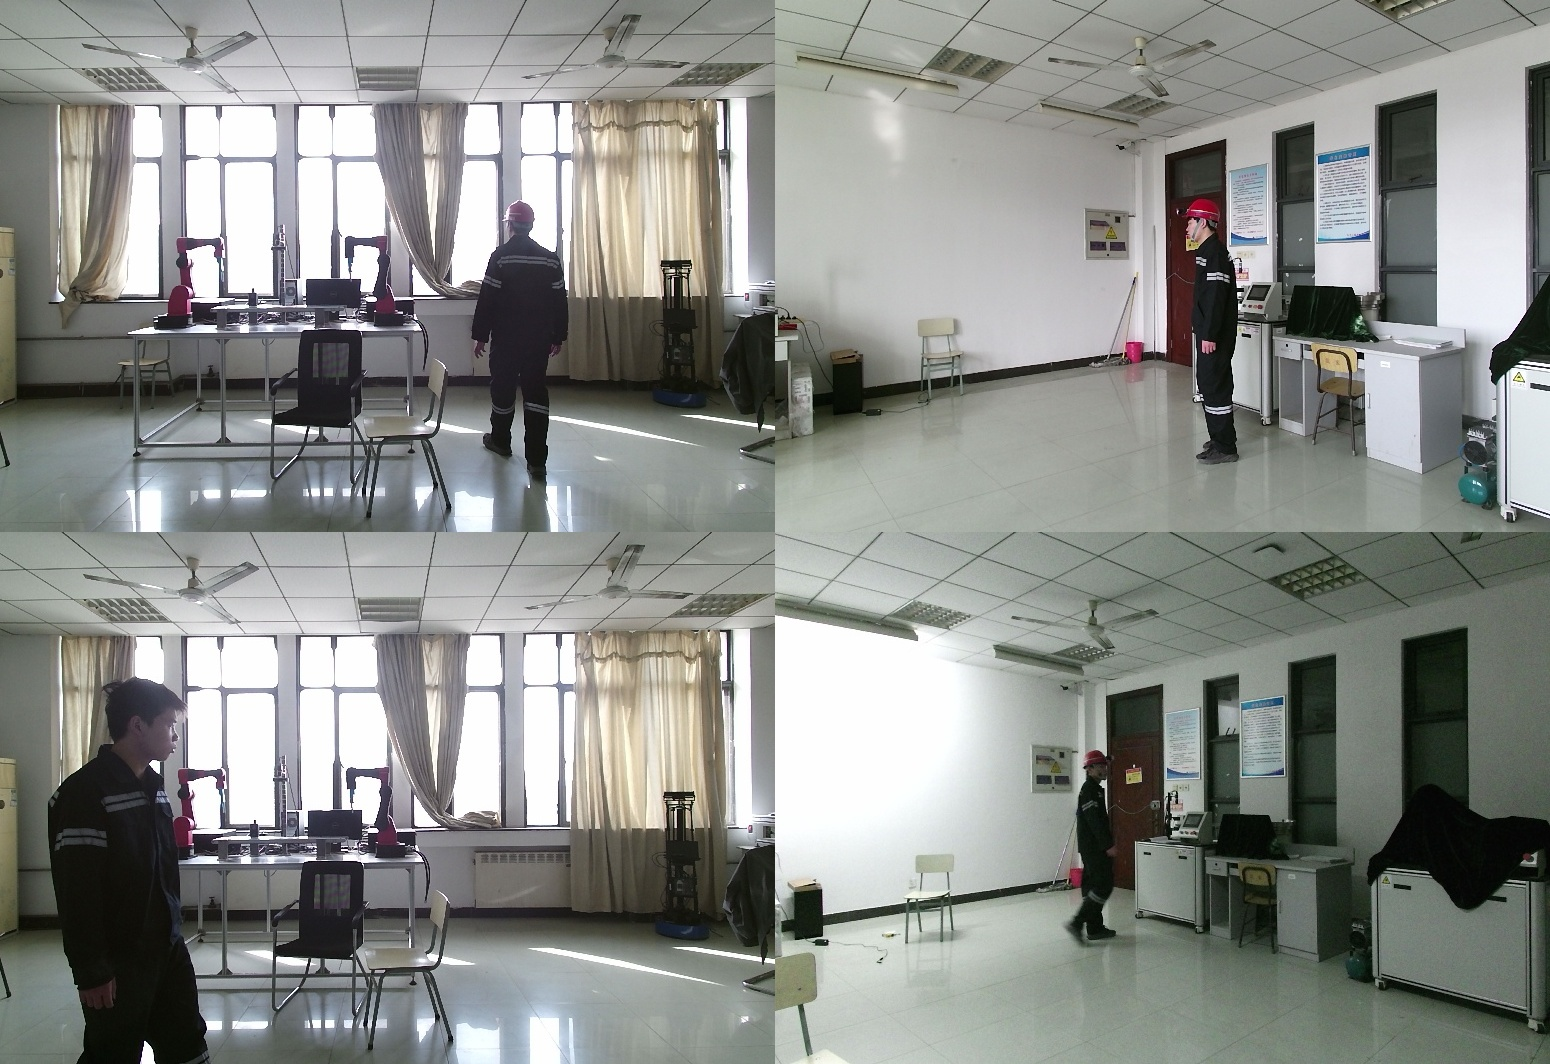person: (51, 679, 218, 1064), (477, 201, 579, 488), (1187, 202, 1248, 461), (1055, 752, 1119, 953)
